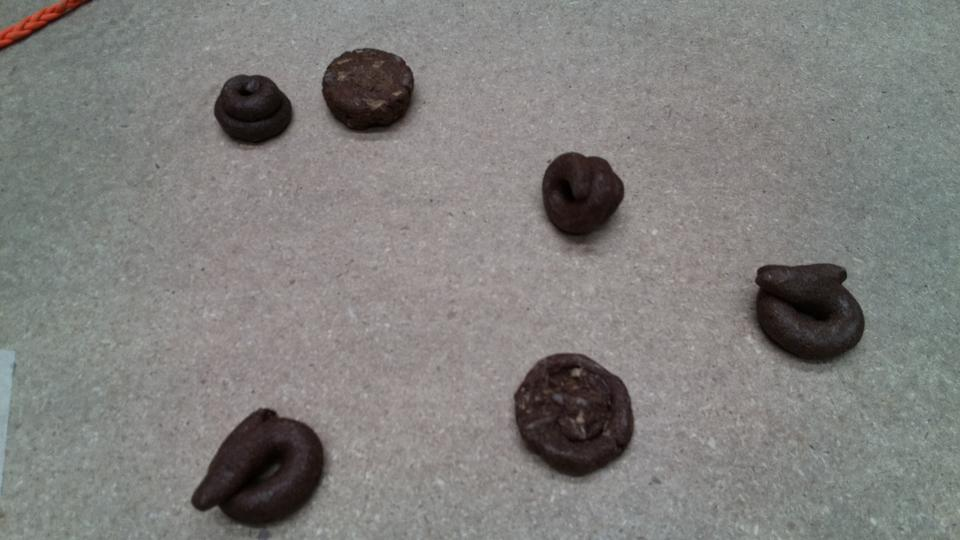poop: (191, 405, 336, 532), (510, 349, 643, 474), (745, 253, 868, 369), (540, 144, 631, 239), (209, 67, 304, 157), (321, 46, 420, 131)
